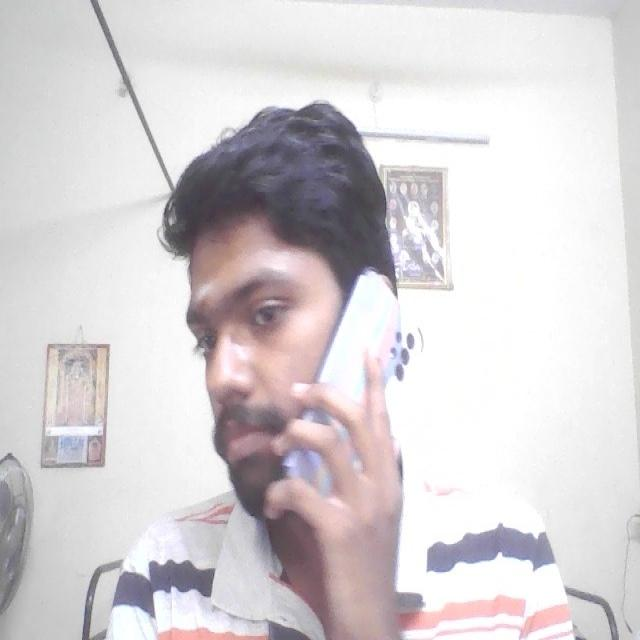Mobile: (322, 272, 426, 440)
